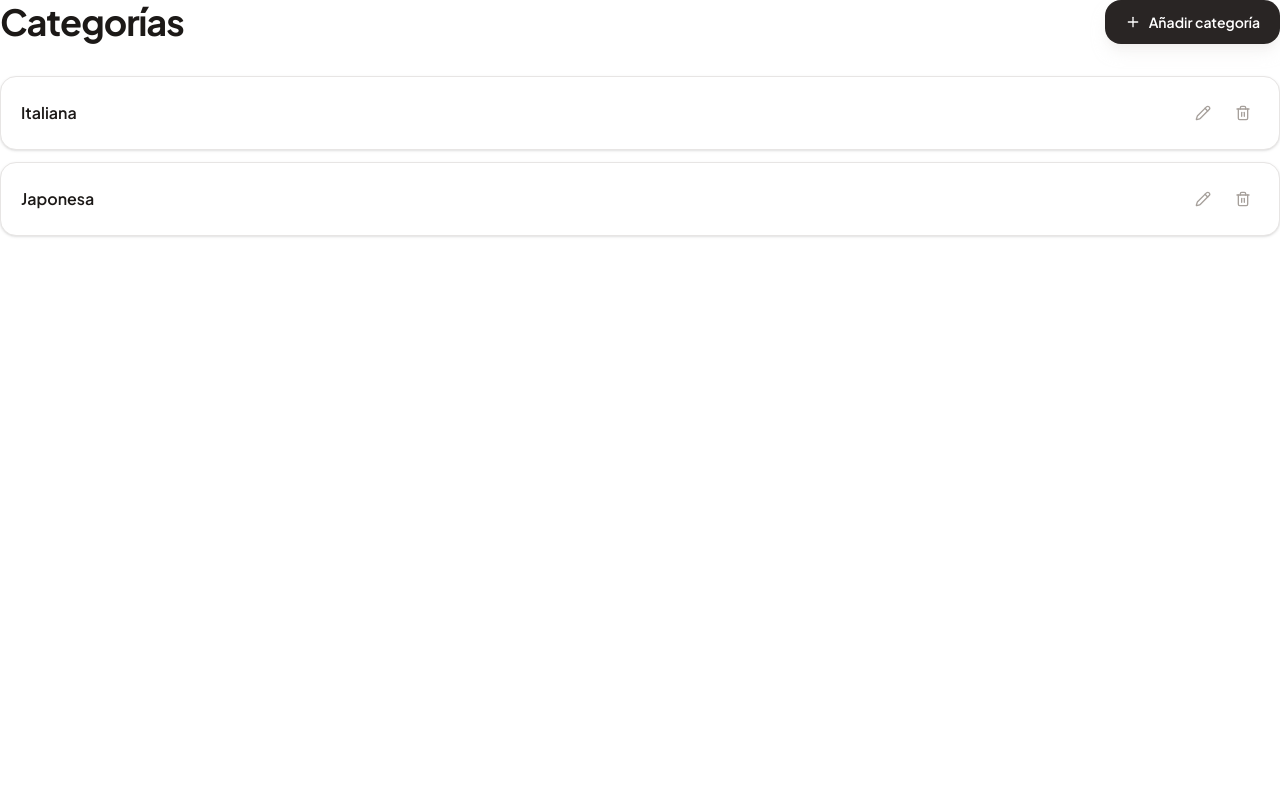
Test: CategoriasPage › opens edit modal on pencil click
Click the button named "Editar Italiana": (1203, 113) [1187, 97, 1219, 129]
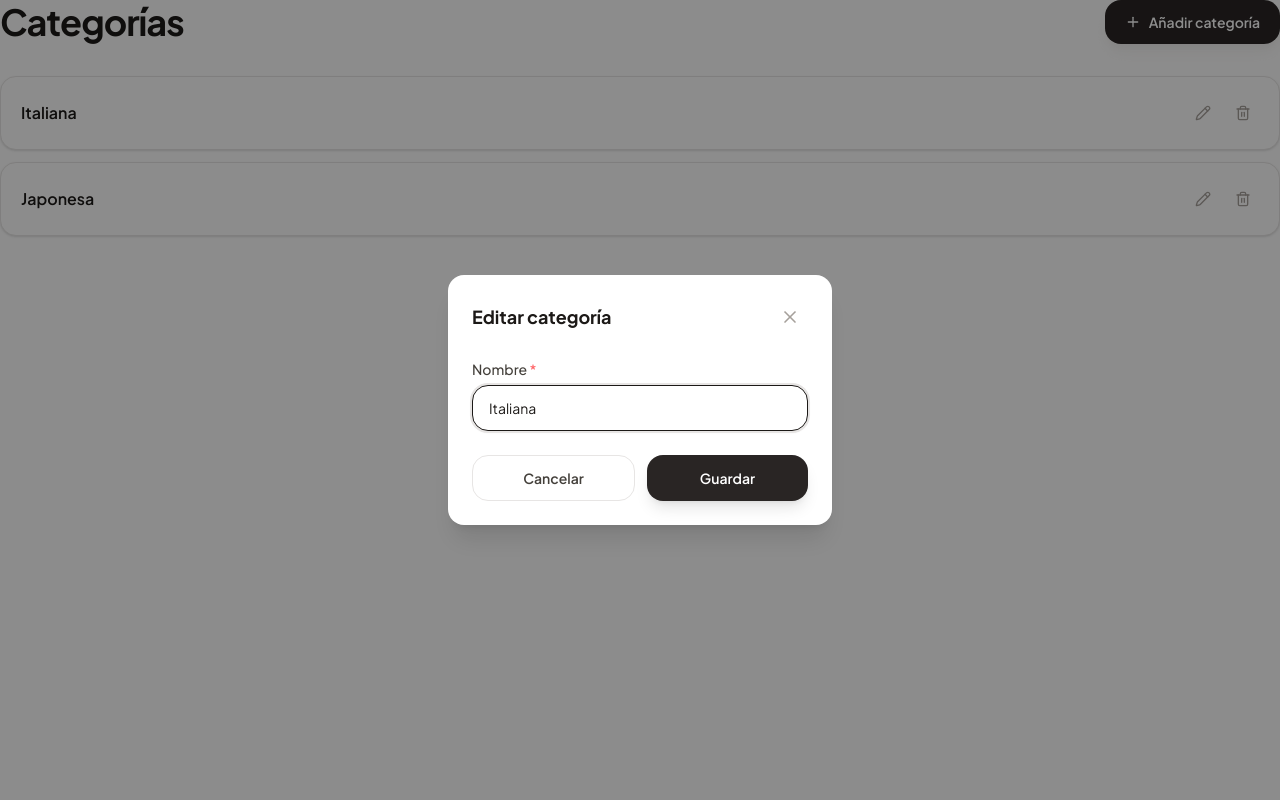
Now the heading "Editar categoría" is shown, box [472, 303, 611, 331]
